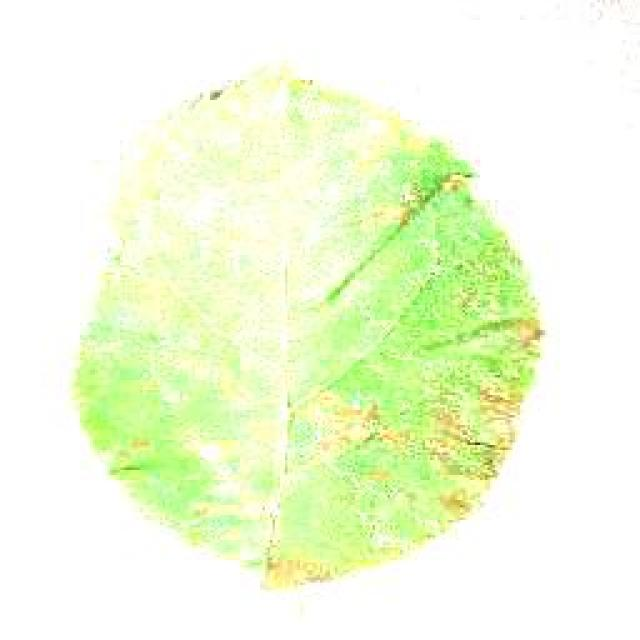apple cedar apple rust: (70, 60, 545, 590)
